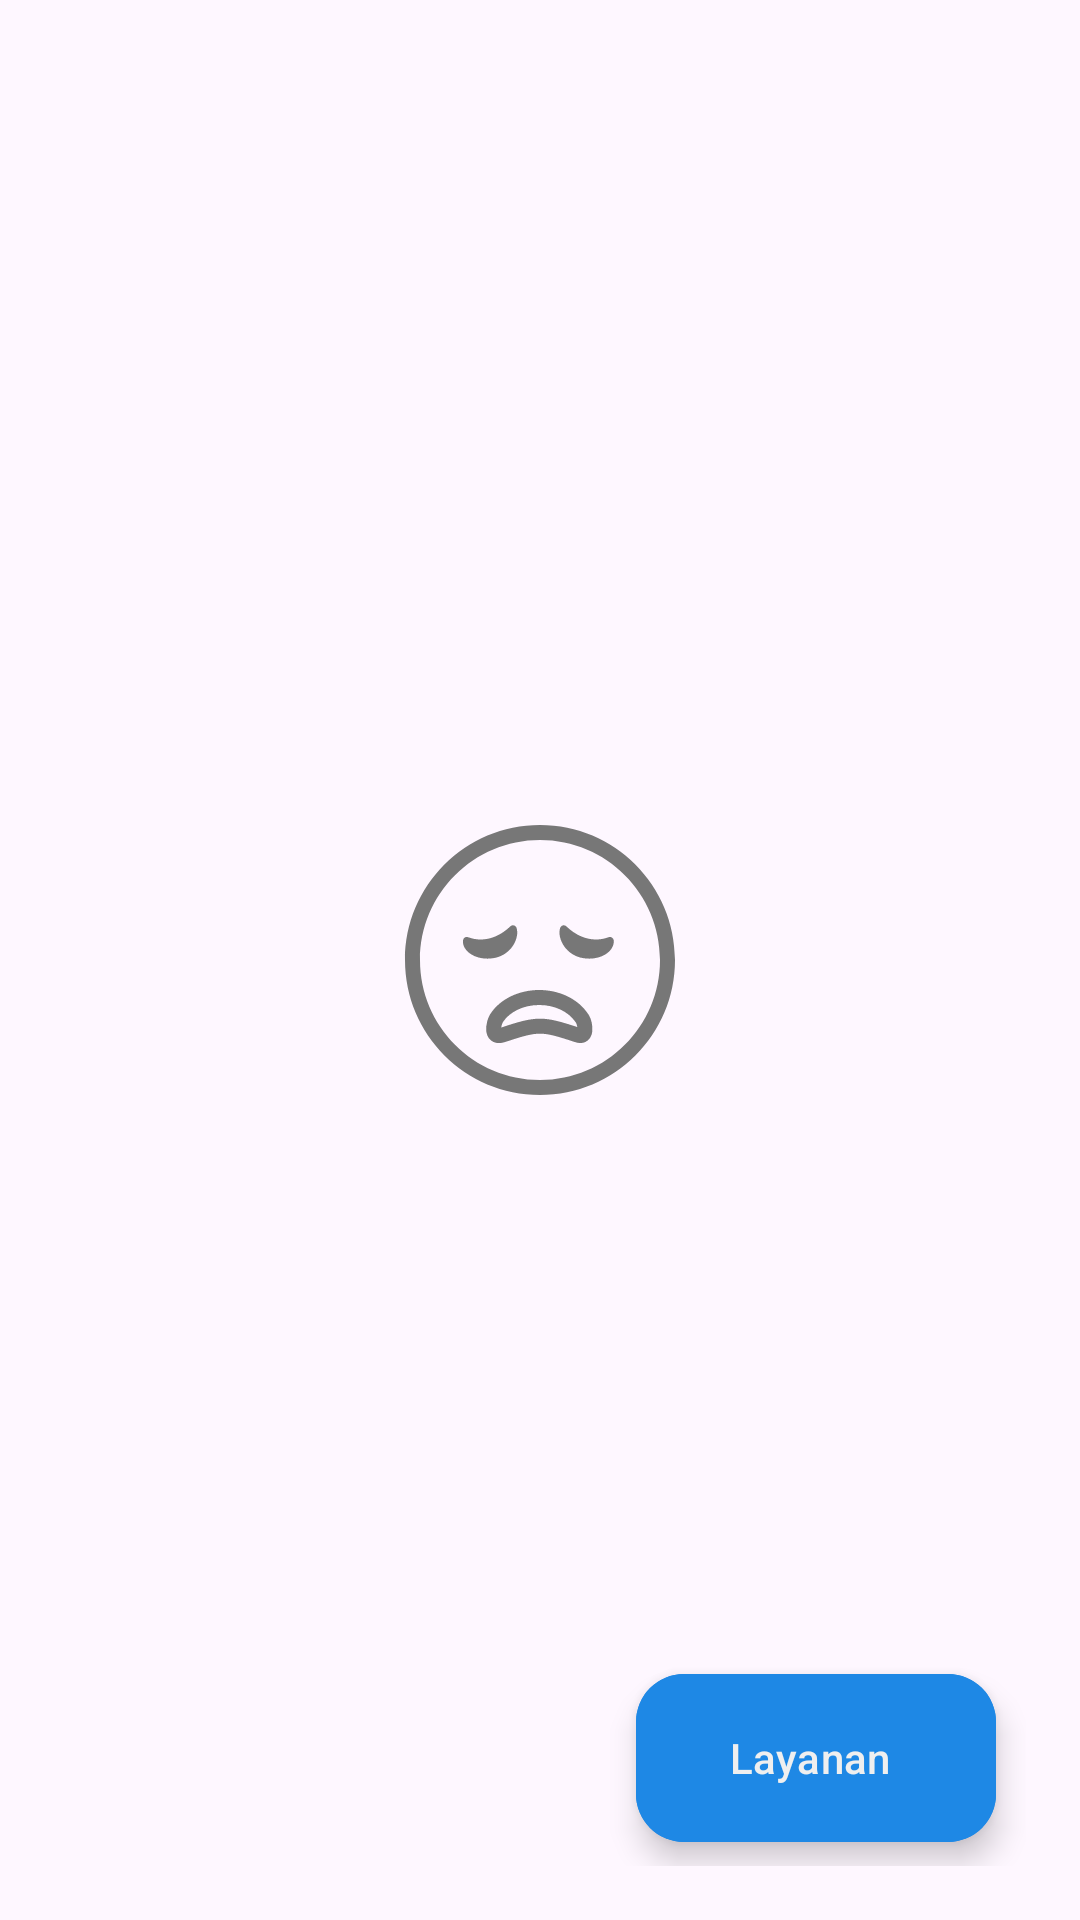

Locate icon controls on the screen. Image size 1080×1920, boxes as [left=x1, top=y1, right=x2, bottom=y2].
nodata: [left=405, top=825, right=675, bottom=1095]
